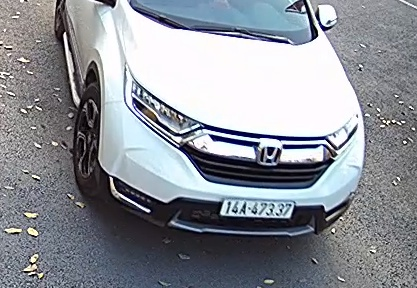vehicle plate: (219, 193, 296, 221)
